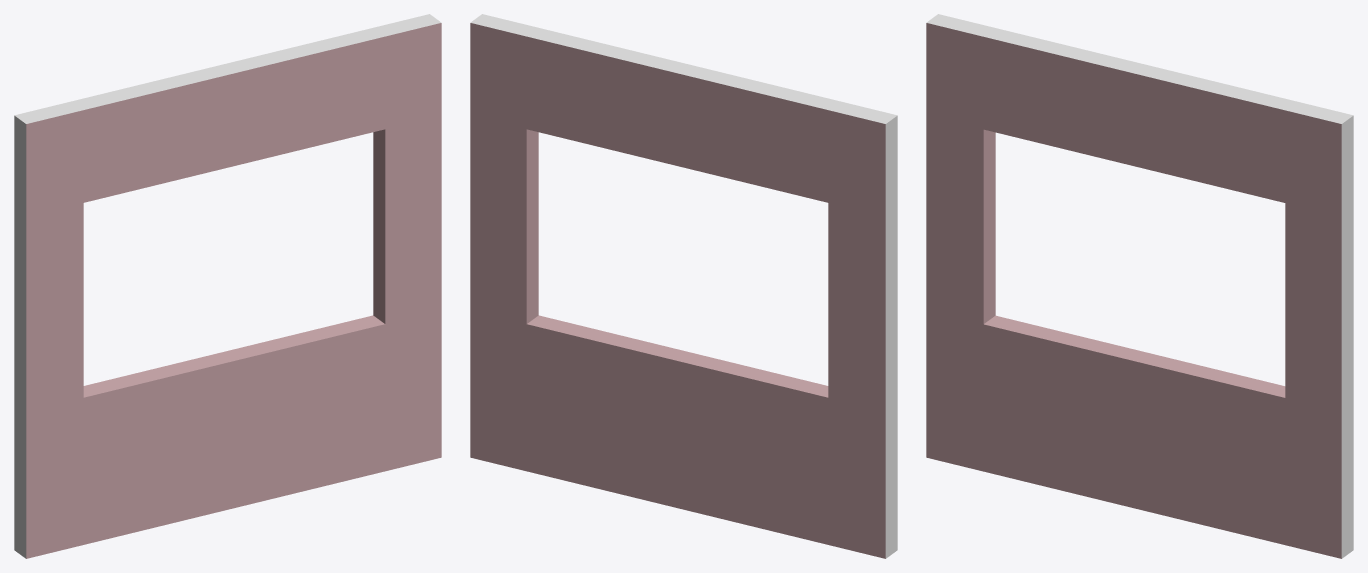
The model's file is wall_053.fbx.
The picture shows the model from 3 angles, left to right: view 1: azimuth 30°, elevation 25°; view 2: azimuth 150°, elevation 25°; view 3: azimuth 330°, elevation 25°; orthographic projection.
Parts seen in each view (by area): view 1: wall_053; view 2: wall_053; view 3: wall_053.
Part boxes in pixels (bbox=[...]): wall_053: bbox=[14, 14, 441, 558]; wall_053: bbox=[470, 14, 897, 558]; wall_053: bbox=[926, 14, 1353, 558].
Size of the model in its own units: 400 by 20 by 400.
